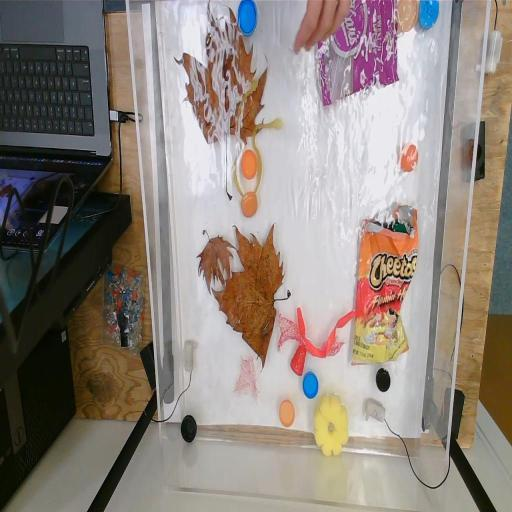Bottle Cap: (237, 0, 258, 36), (396, 0, 418, 34), (418, 0, 440, 30), (400, 140, 418, 176), (180, 414, 198, 444), (240, 149, 258, 178), (279, 398, 296, 428), (242, 190, 258, 218), (303, 372, 319, 400), (376, 368, 390, 392)
Cone Cap: (290, 343, 308, 375)
Leaf: (174, 0, 266, 201), (212, 224, 290, 368), (196, 228, 238, 292)
Netting: (275, 311, 345, 358), (234, 355, 260, 403)
Plastic Bag: (351, 204, 419, 366), (318, 0, 400, 108)
Plastic Strand: (234, 75, 284, 199), (296, 306, 356, 358)
Sponge: (313, 393, 350, 457)
